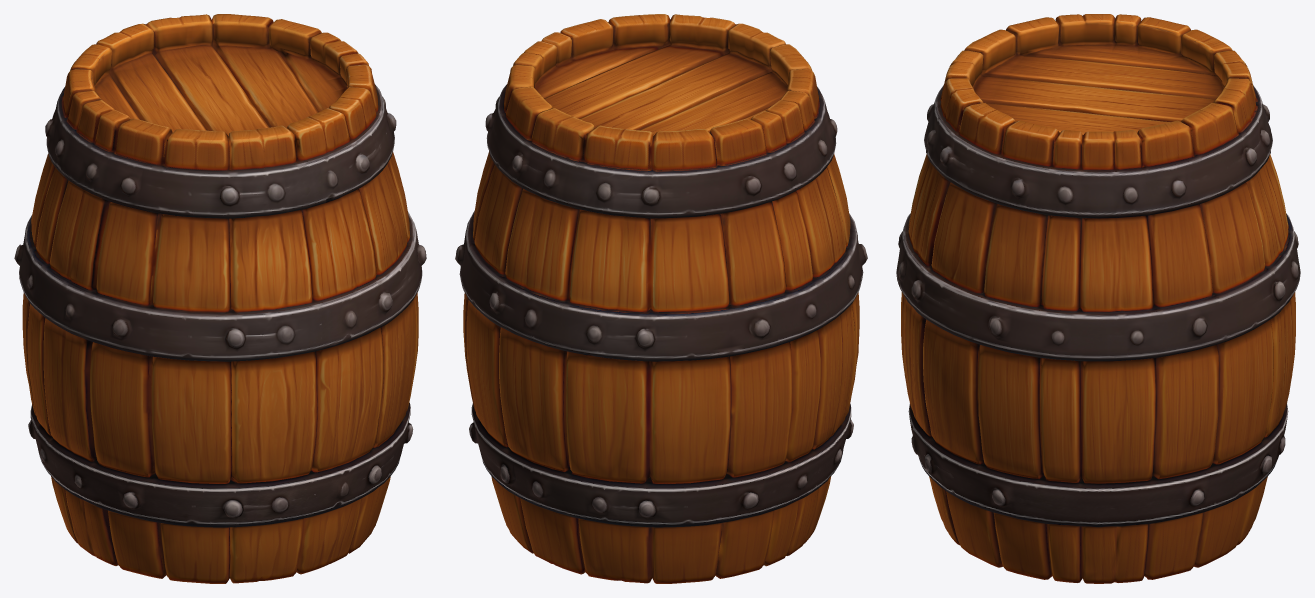
File: wooden_barrel.glb
3 views of the same model, side by side, from view 1: azimuth 30°, elevation 25°; view 2: azimuth 150°, elevation 25°; view 3: azimuth 270°, elevation 25° (orthographic).
Parts seen in each view (by area): view 1: tripo_node_788437b9-dc1a-4ca0-a0a2-2e6514bb57a2; view 2: tripo_node_788437b9-dc1a-4ca0-a0a2-2e6514bb57a2; view 3: tripo_node_788437b9-dc1a-4ca0-a0a2-2e6514bb57a2.
Boxes of the visible parts, x1=… form: tripo_node_788437b9-dc1a-4ca0-a0a2-2e6514bb57a2: x1=14, y1=14, x2=426, y2=583; tripo_node_788437b9-dc1a-4ca0-a0a2-2e6514bb57a2: x1=455, y1=14, x2=867, y2=583; tripo_node_788437b9-dc1a-4ca0-a0a2-2e6514bb57a2: x1=896, y1=14, x2=1300, y2=583.
Size of the model in its own units: 0.81 by 0.9785 by 0.8099.
1 material, 1 textured.
